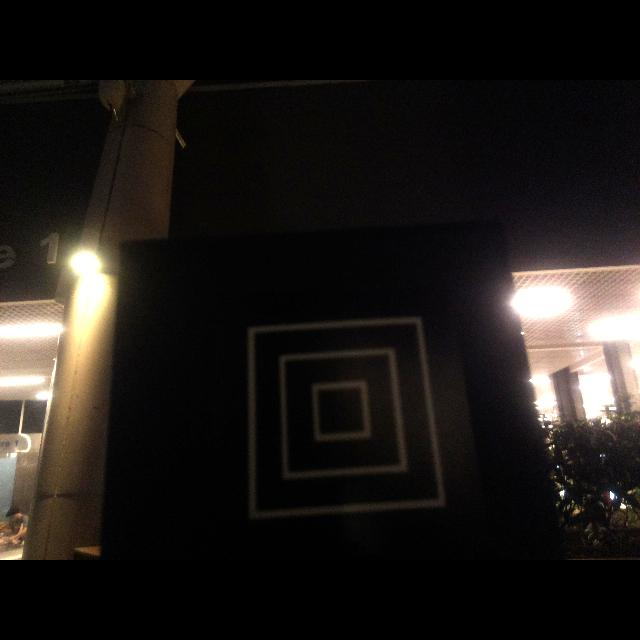BULLSEYE: (248, 317, 445, 520)
